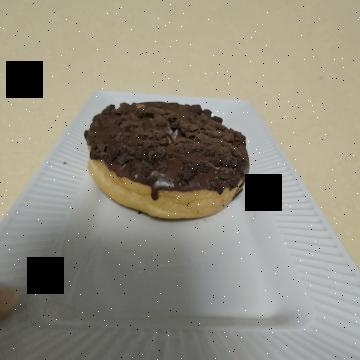doughnut: (80, 105, 247, 295)
